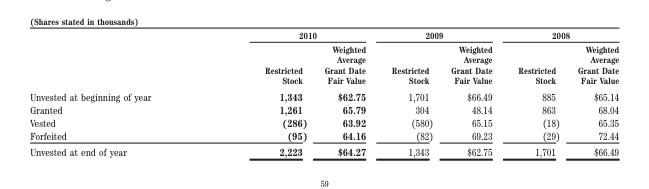table: (29, 29, 618, 157)
table column: (29, 29, 207, 157), (207, 29, 314, 157), (377, 29, 441, 157), (314, 29, 377, 157), (441, 29, 504, 157), (504, 29, 567, 157), (567, 29, 618, 157)
table column header: (29, 29, 618, 87)
table row: (29, 41, 618, 87), (29, 87, 618, 102), (29, 128, 618, 143), (29, 143, 618, 157), (29, 102, 618, 115), (29, 115, 618, 128), (29, 29, 618, 41)
table spanning cell: (207, 29, 377, 41), (377, 29, 504, 41), (504, 29, 618, 41)
